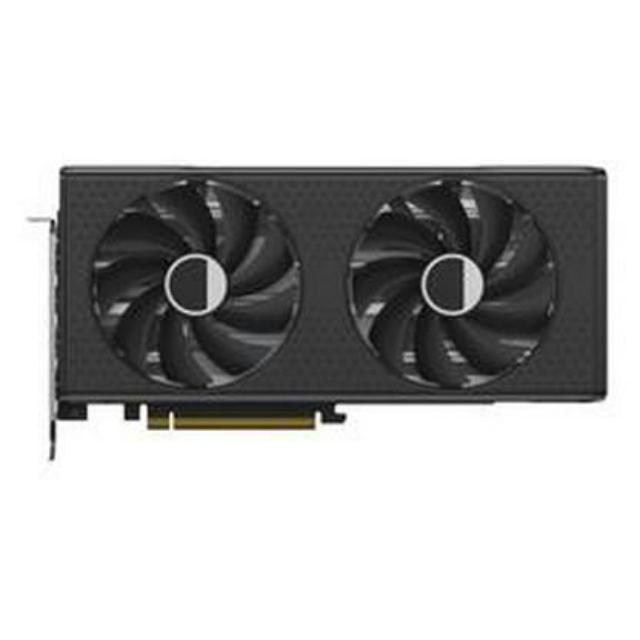GPU: (54, 160, 614, 431)
